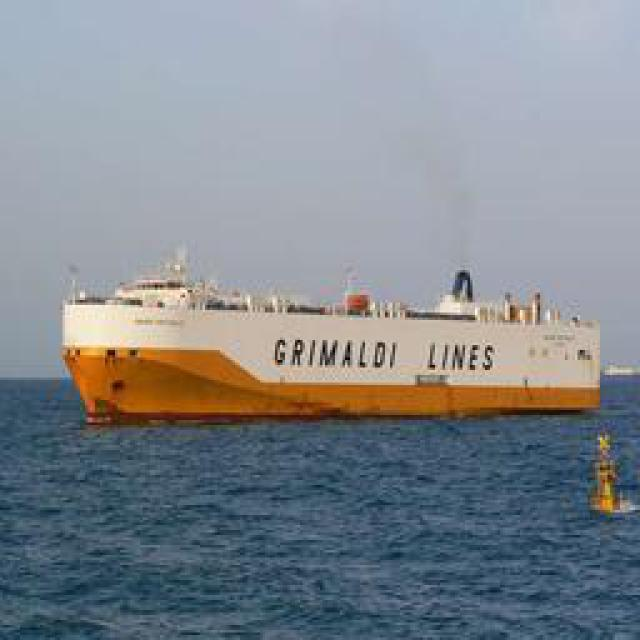Ship: (71, 251, 609, 421)
